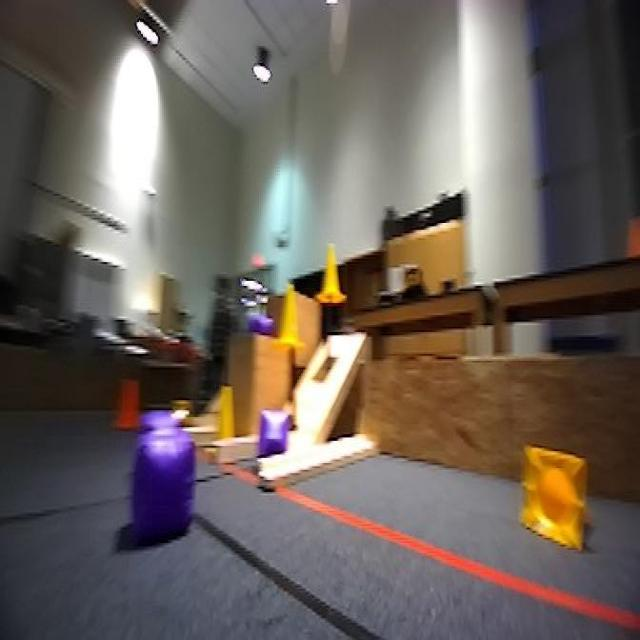frc_cone: (516, 434, 601, 563), (318, 237, 350, 304), (281, 294, 307, 349), (216, 380, 236, 436), (166, 403, 201, 429)
frc_cube: (136, 429, 205, 540), (258, 408, 295, 454), (241, 310, 283, 342)
